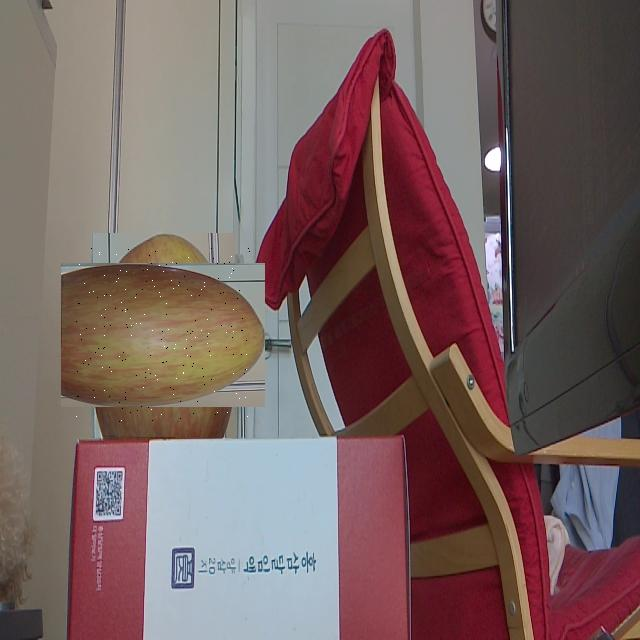apple: (76, 248, 250, 423)
